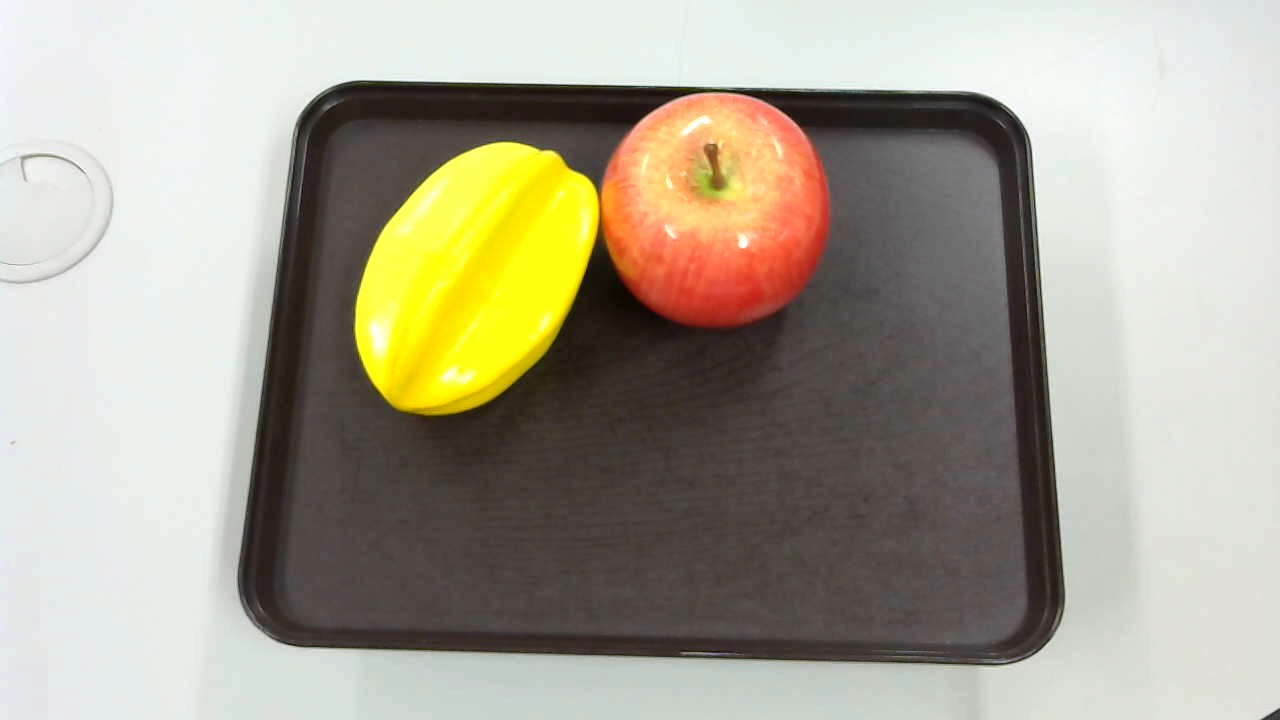red apple: (601, 86, 827, 329)
star fruit: (345, 135, 599, 422)
